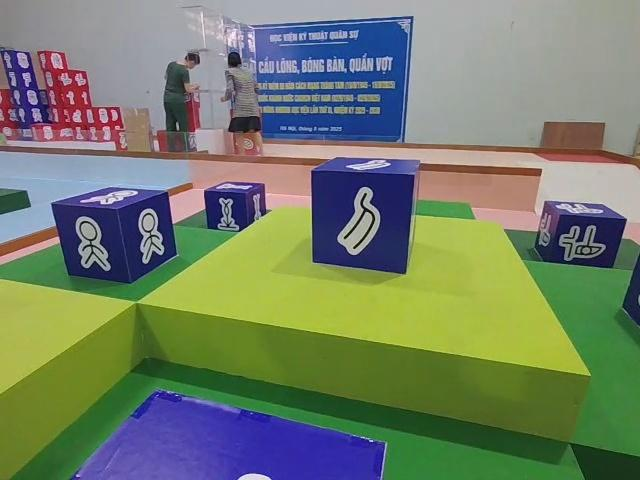R2 Real Blue: (310, 155, 421, 275), (52, 187, 177, 285), (533, 201, 626, 269), (204, 181, 266, 233)
